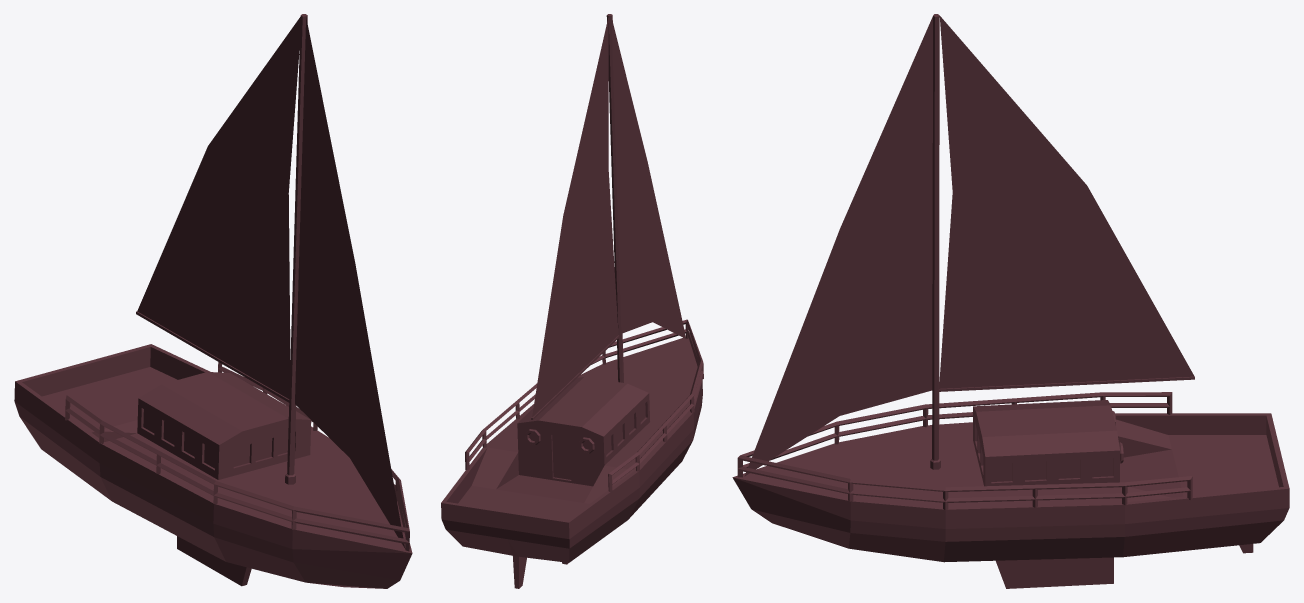
Rendered from boat-sail.fbx.
The picture shows the model from 3 angles, left to right: view 1: azimuth 30°, elevation 25°; view 2: azimuth 150°, elevation 25°; view 3: azimuth 270°, elevation 25°; orthographic projection. The views are drawn at different scales.
Visible parts, largest first — view 1: boat-sail; view 2: boat-sail; view 3: boat-sail.
Boxes of the visible parts, bbox=[...] form: boat-sail: bbox=[14, 14, 412, 588]; boat-sail: bbox=[441, 14, 703, 588]; boat-sail: bbox=[732, 14, 1289, 588].
Bounding box in the file's own units: 0.6537 × 1.94 × 1.67.
